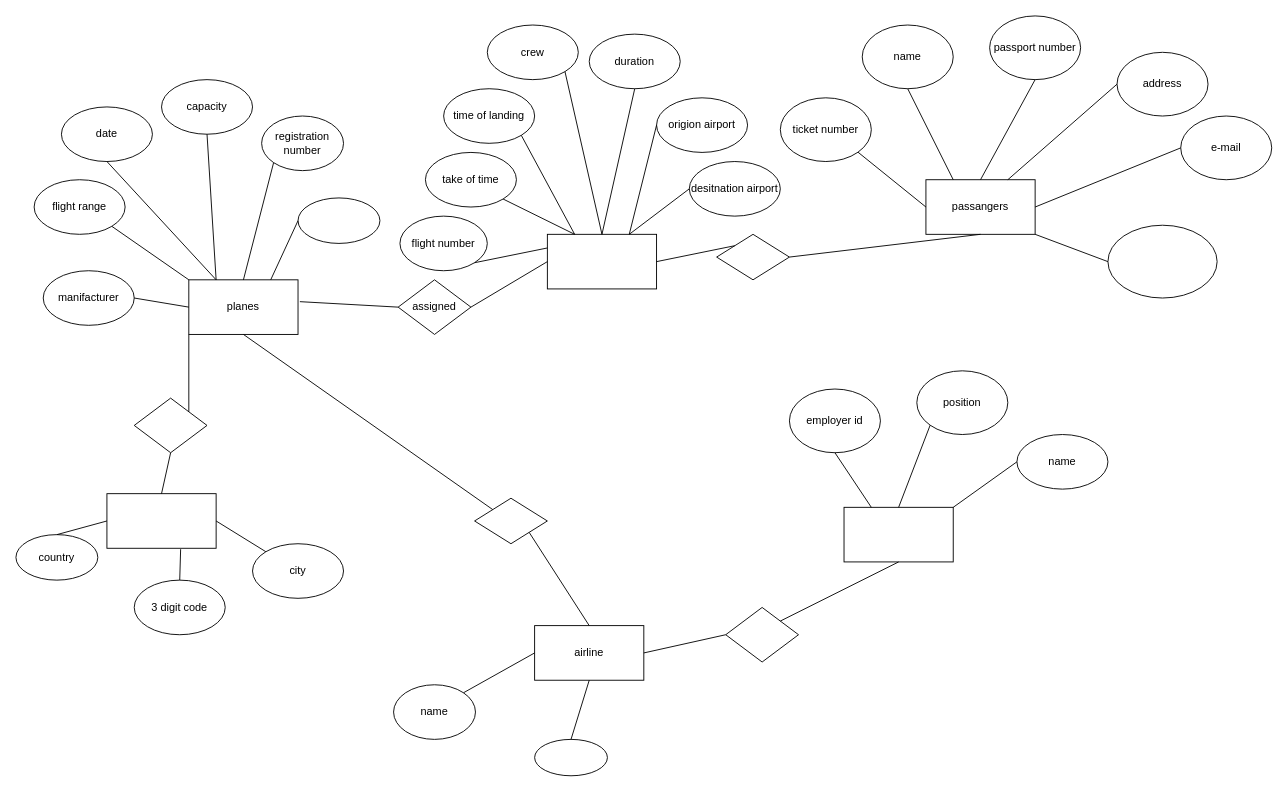
Image size: 1288x792. Some labels were removed from this diagram. Each missing label, with the centre of its shape:
airports: (x=161, y=520)
book: (x=752, y=256)
employees: (x=898, y=534)
employes: (x=762, y=634)
flights: (x=601, y=261)
fly to: (x=170, y=425)
id: (x=570, y=757)
member id (reward program): (x=1162, y=261)
model: (x=338, y=220)
own: (x=510, y=520)
